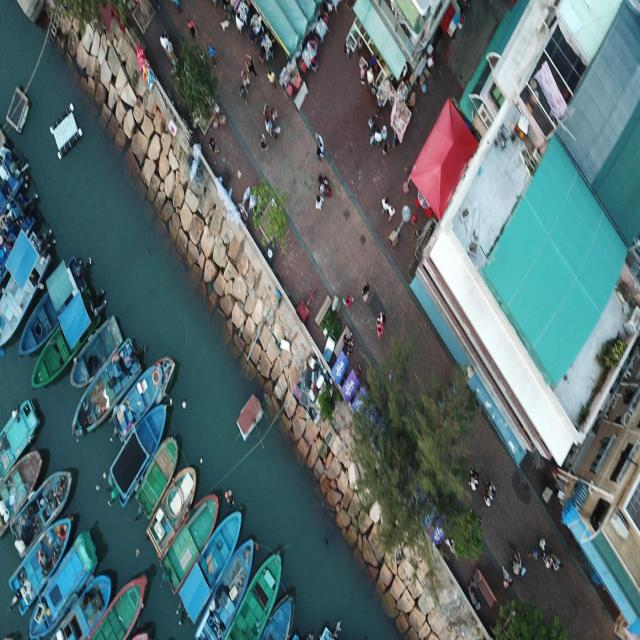tree: (348, 332, 478, 579), (168, 31, 220, 136), (250, 176, 289, 266), (320, 306, 342, 349)
